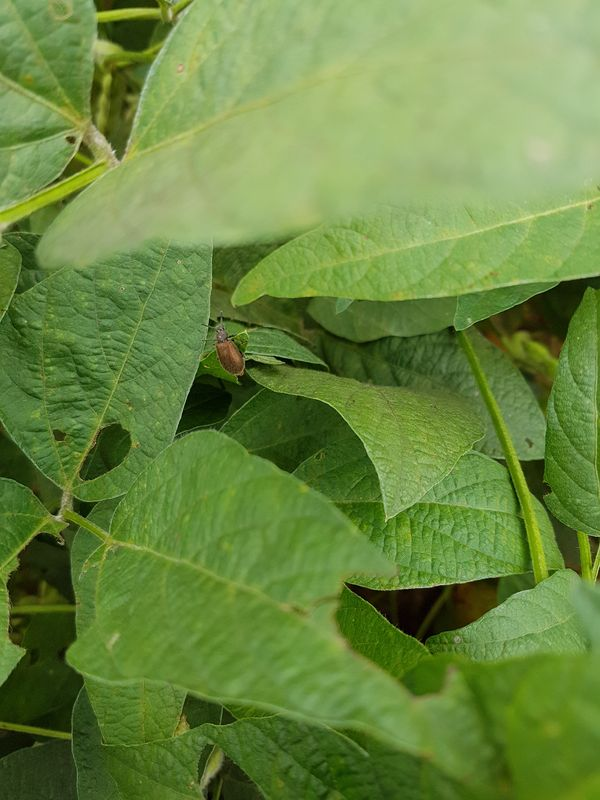Lagria_villosa: (192, 307, 257, 387)
